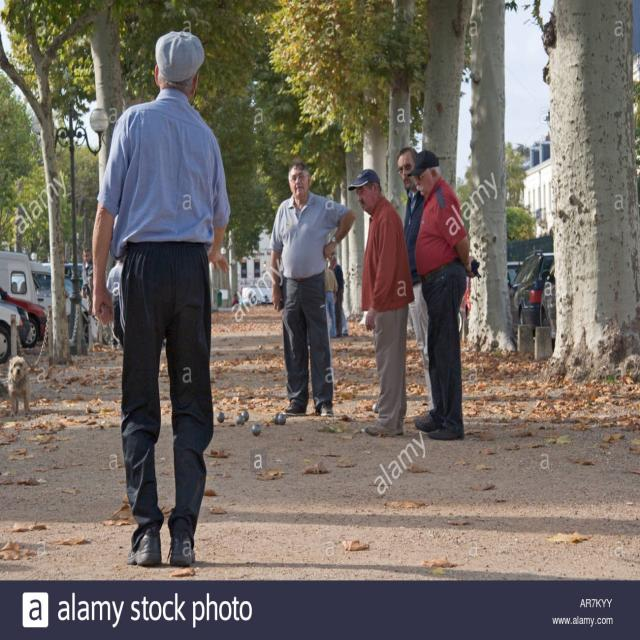body: (87, 25, 234, 569), (265, 152, 357, 420), (405, 146, 481, 442), (346, 167, 416, 436), (188, 552, 594, 588), (192, 500, 634, 532), (394, 145, 437, 413), (344, 377, 564, 404), (403, 412, 611, 425), (106, 255, 126, 352), (324, 257, 338, 338), (330, 256, 344, 337), (80, 248, 94, 285), (340, 306, 354, 332), (232, 288, 240, 306)
